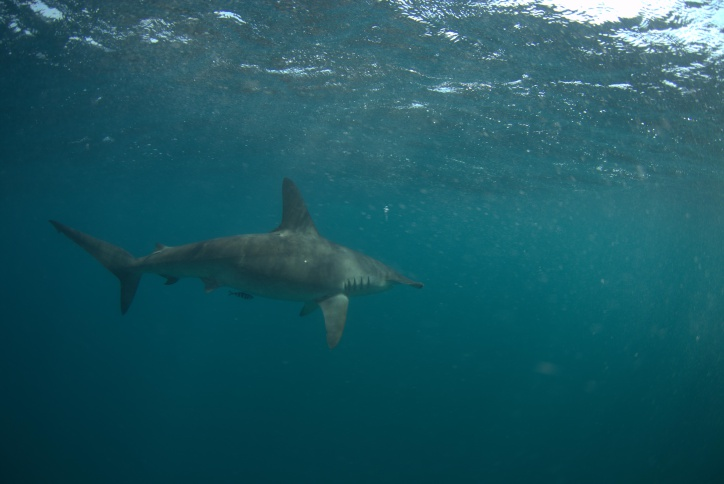Hammer: (40, 171, 448, 351)
